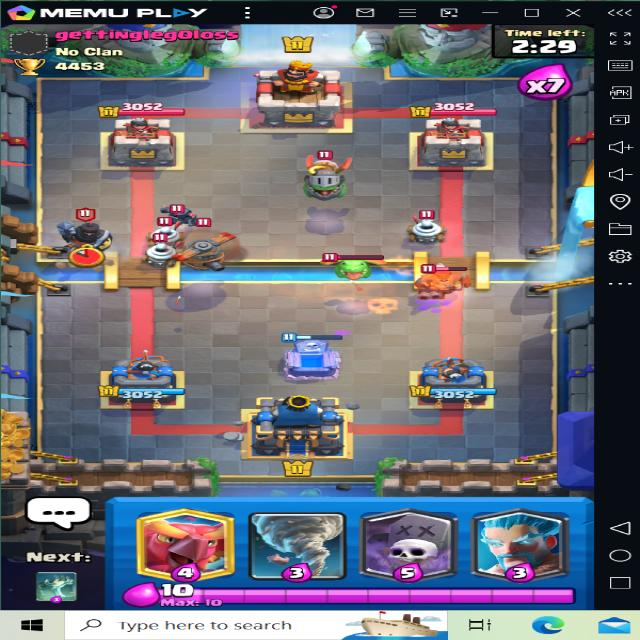baby-dragon: (320, 248, 400, 283)
dark-prince: (47, 206, 116, 257)
flying-machine: (160, 222, 259, 276)
hunter: (404, 257, 471, 300)
inferno-dragon: (277, 153, 358, 200)
mini-pekka: (153, 195, 221, 232)
zappie: (402, 208, 449, 242), (144, 215, 193, 247), (143, 232, 188, 264)
